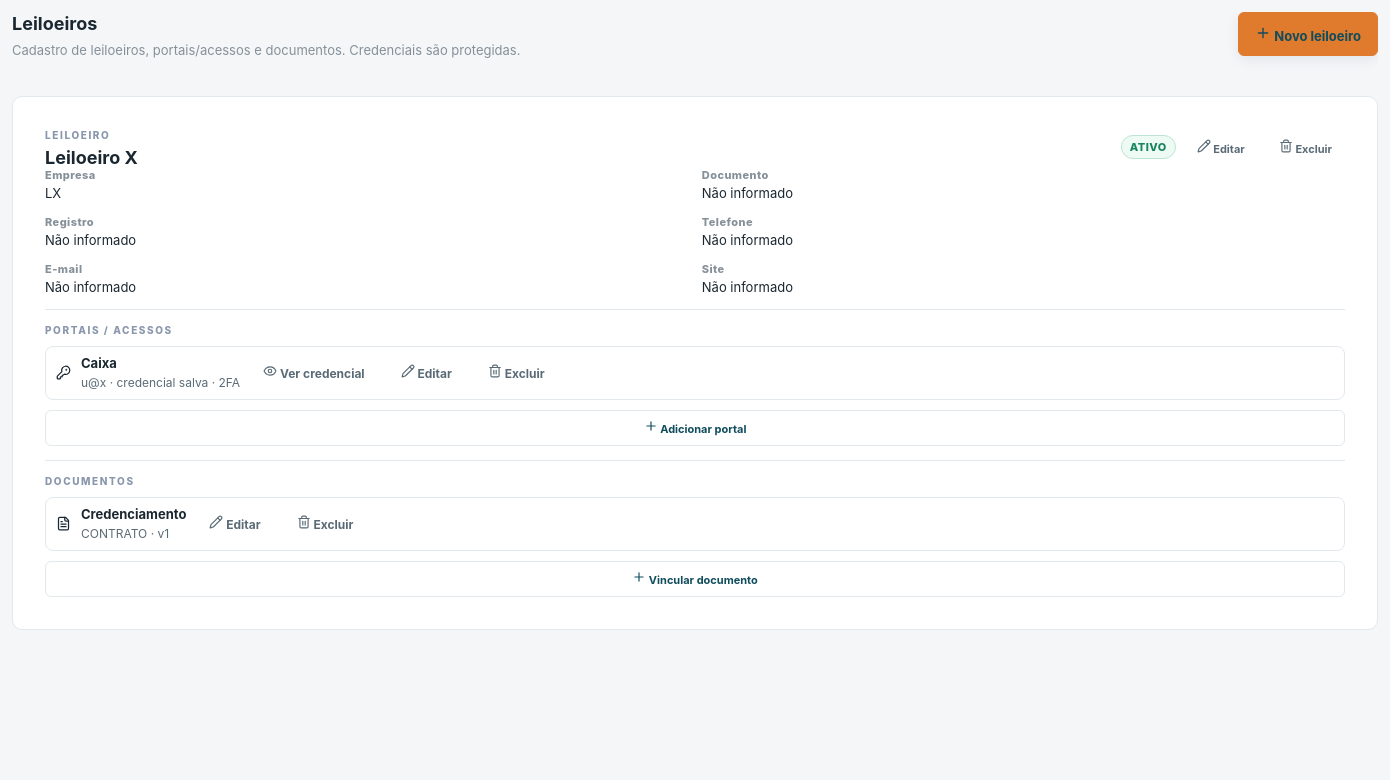
Test: AuctioneersPage › exclui um documento do leiloeiro após confirmação
This screenshot has width=1390, height=780.
Expected: the text "Credenciamento" is shown, [81,506,186,522]
Step 1. Click the button "Excluir" in the row of "Credenciamento" → (325, 524), box [284,506,366,542]
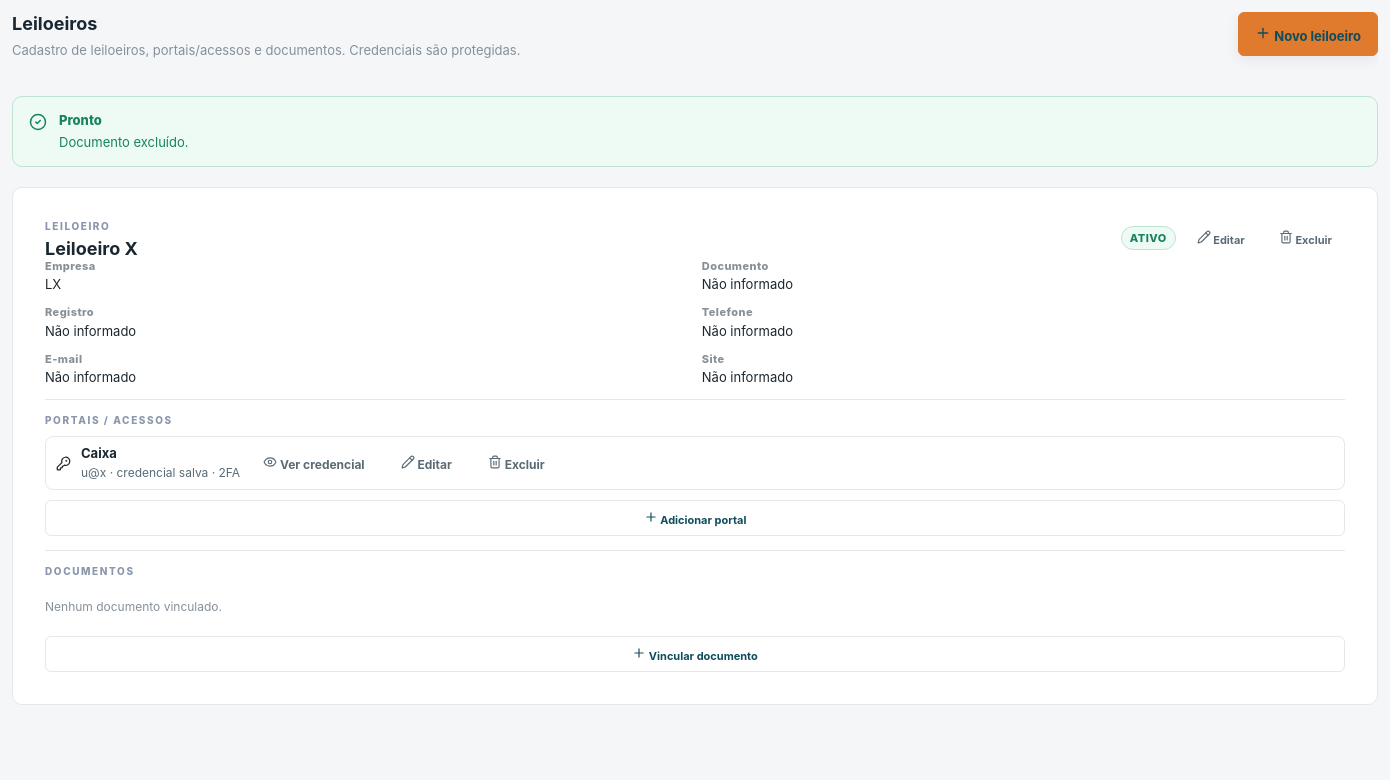
Now the text "Documento excluído." is shown, box [59,134,188,150]
